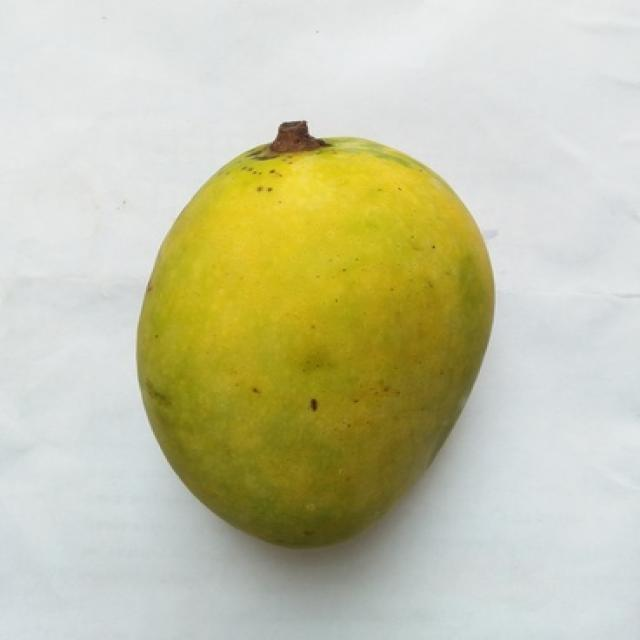Mango: (139, 138, 492, 544)
